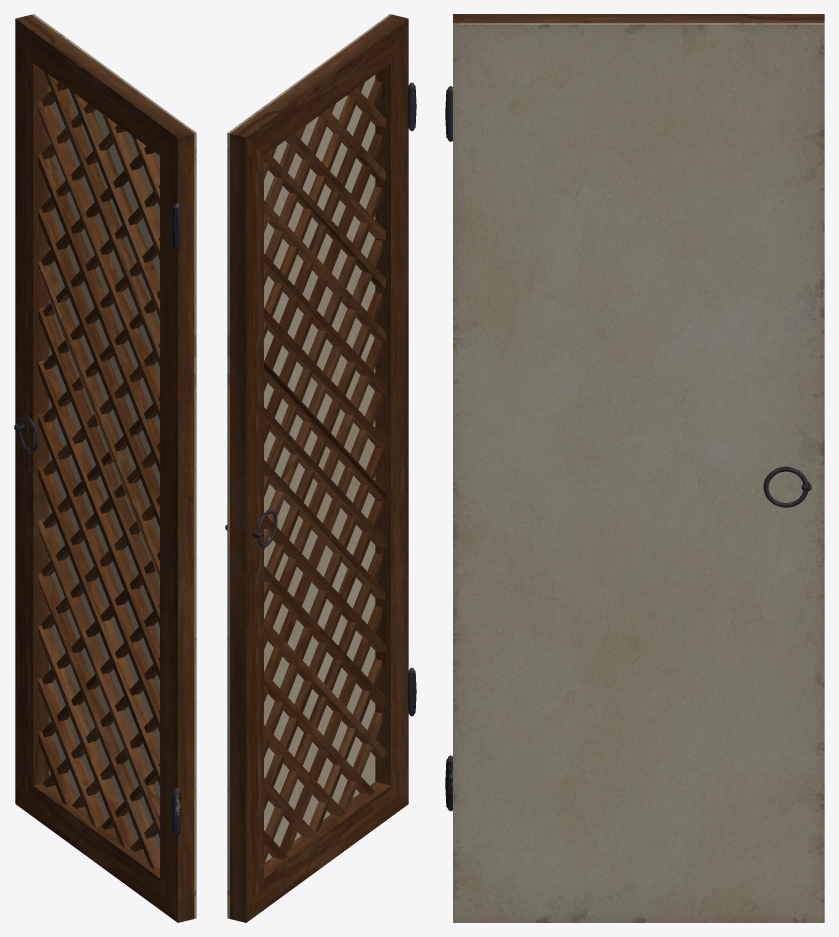
The model's file is SM_Door01f_02.fbx.
3 renders of one model, left to right at view 1: azimuth 30°, elevation 25°; view 2: azimuth 150°, elevation 25°; view 3: azimuth 270°, elevation 25°, orthographic. The views are drawn at different scales.
Visible parts, largest first — view 1: SM_Door01f_02; view 2: SM_Door01f_02; view 3: SM_Door01f_02.
Boxes of the visible parts, x1,y1,x2,y2 form: SM_Door01f_02: [14, 14, 196, 922]; SM_Door01f_02: [225, 14, 416, 922]; SM_Door01f_02: [445, 14, 824, 922].
Size of the model in its own units: 7.84 by 160 by 61.25.
Materials: 1 (1 with a texture image).
